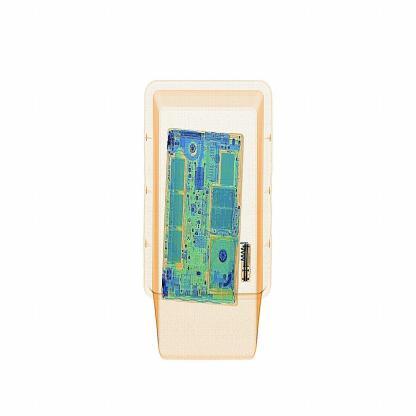scissors: (239, 238, 254, 287)
